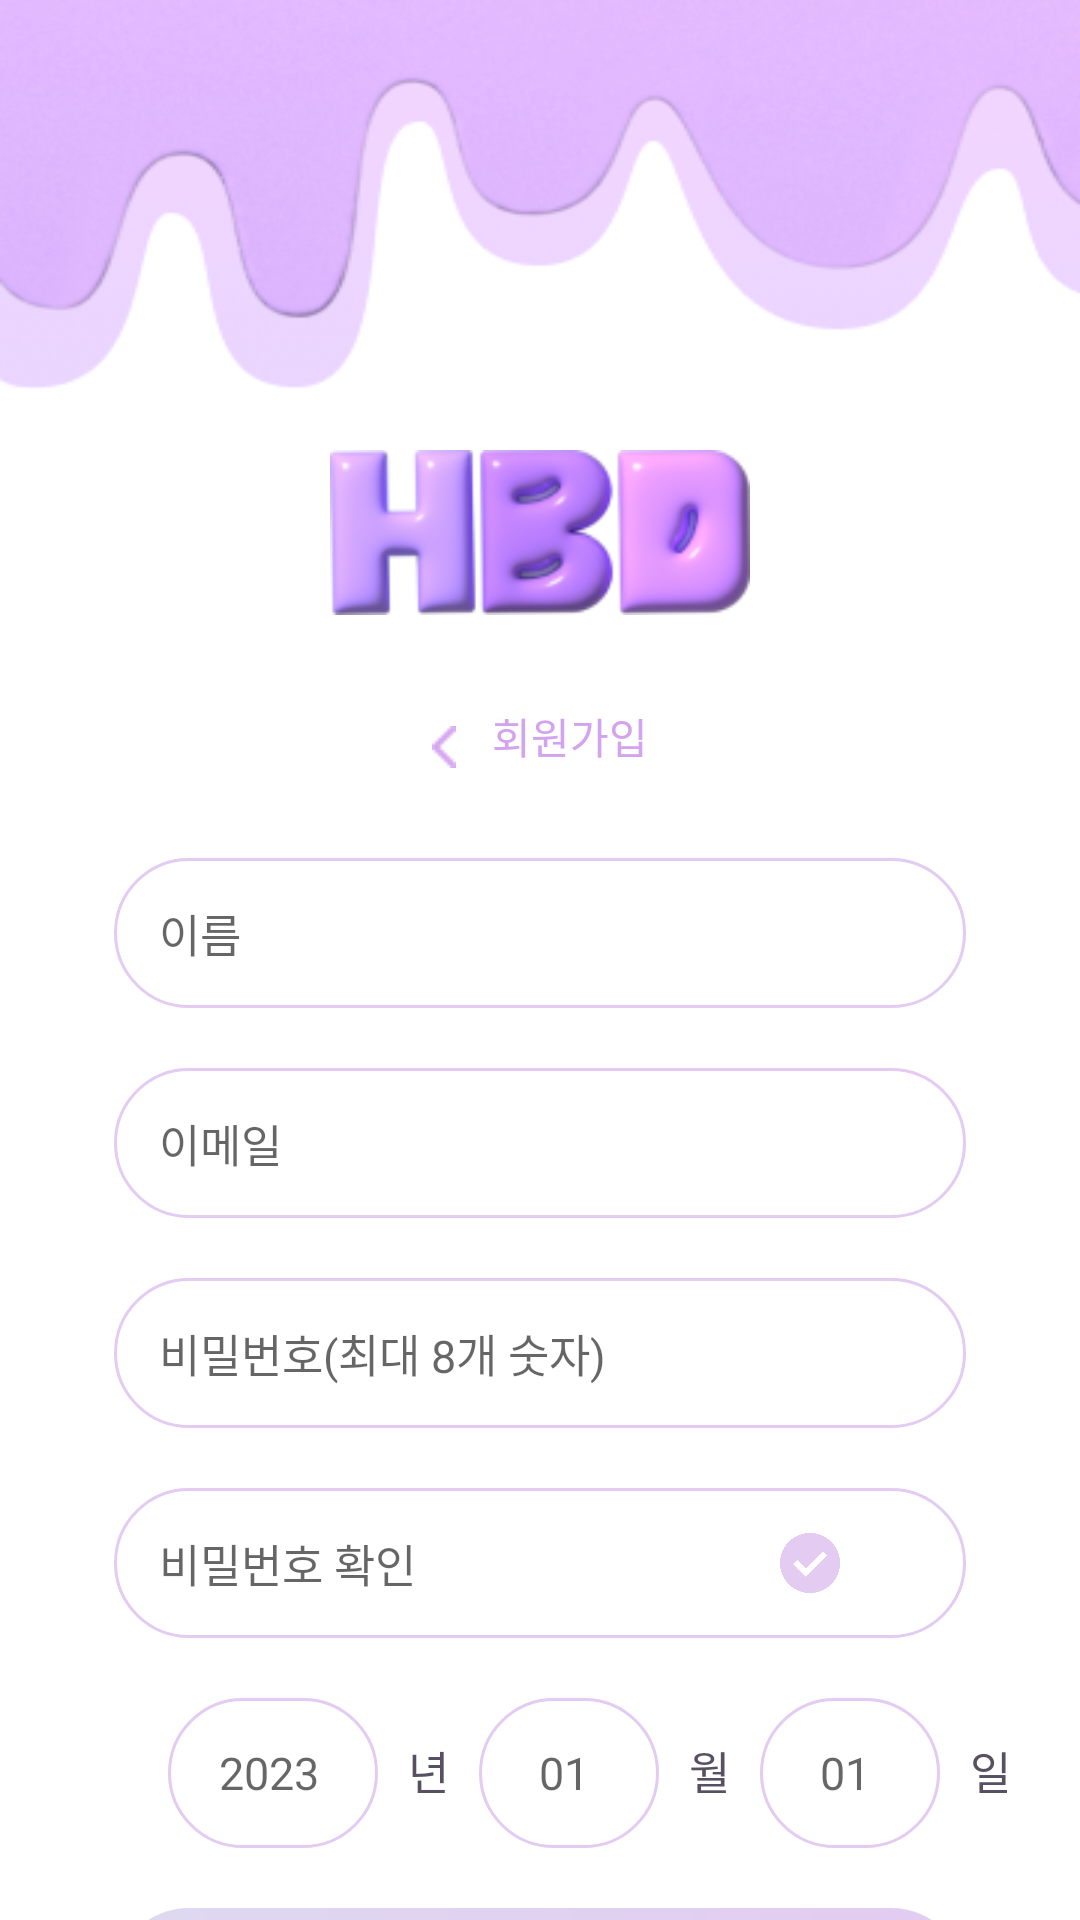

Where icons sit on this 1080w x 1920h app screen, as (x1, y1, x2, y2):
signup comeback: (432, 726, 456, 768)
